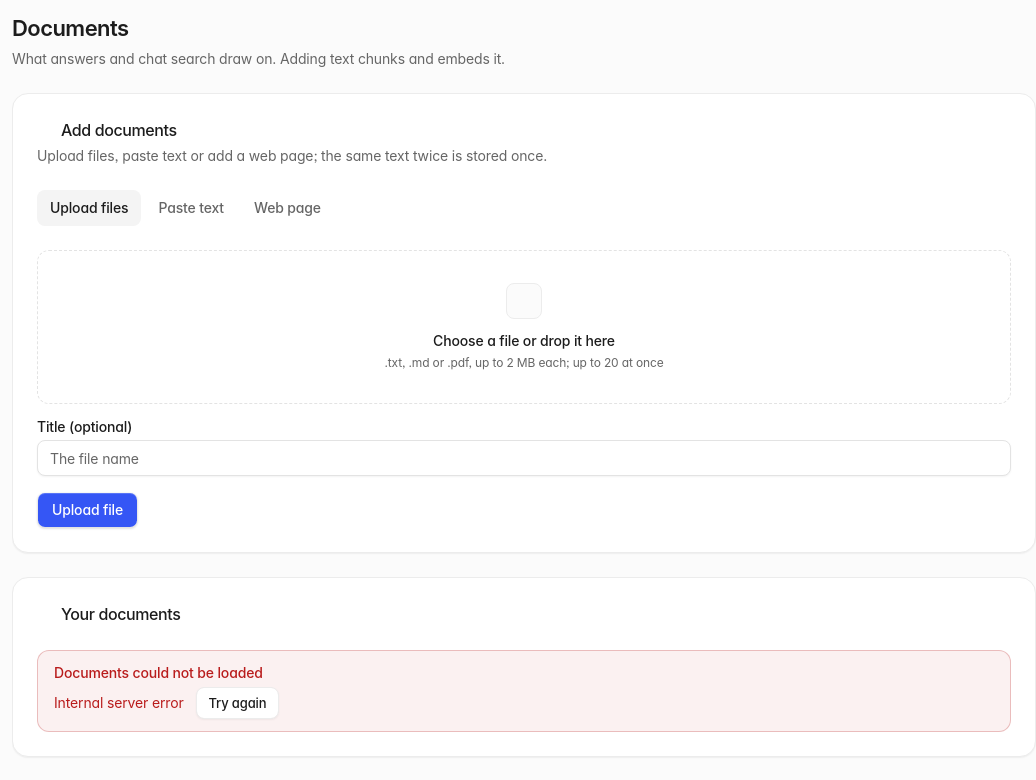
DocumentsContainer (mocked API) › a failed load shows the API's message and can be retried
Check: the text "Documents could not be loaded" is shown, box x1=54 y1=664 x2=263 y2=681
Check: the text "Internal server error Try again" is shown, box x1=54 y1=687 x2=279 y2=719
Click the button "Try again" at (237, 703), box x1=196 y1=687 x2=279 y2=719
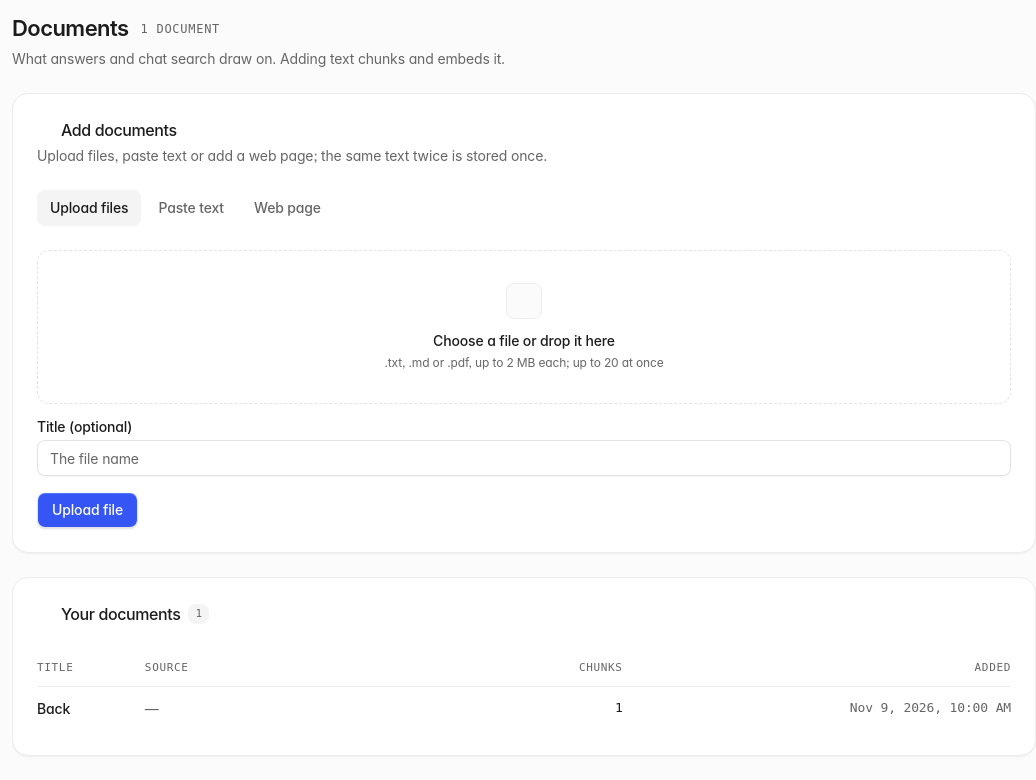
Check: the cell "Back" is shown, box x1=37 y1=686 x2=137 y2=730
